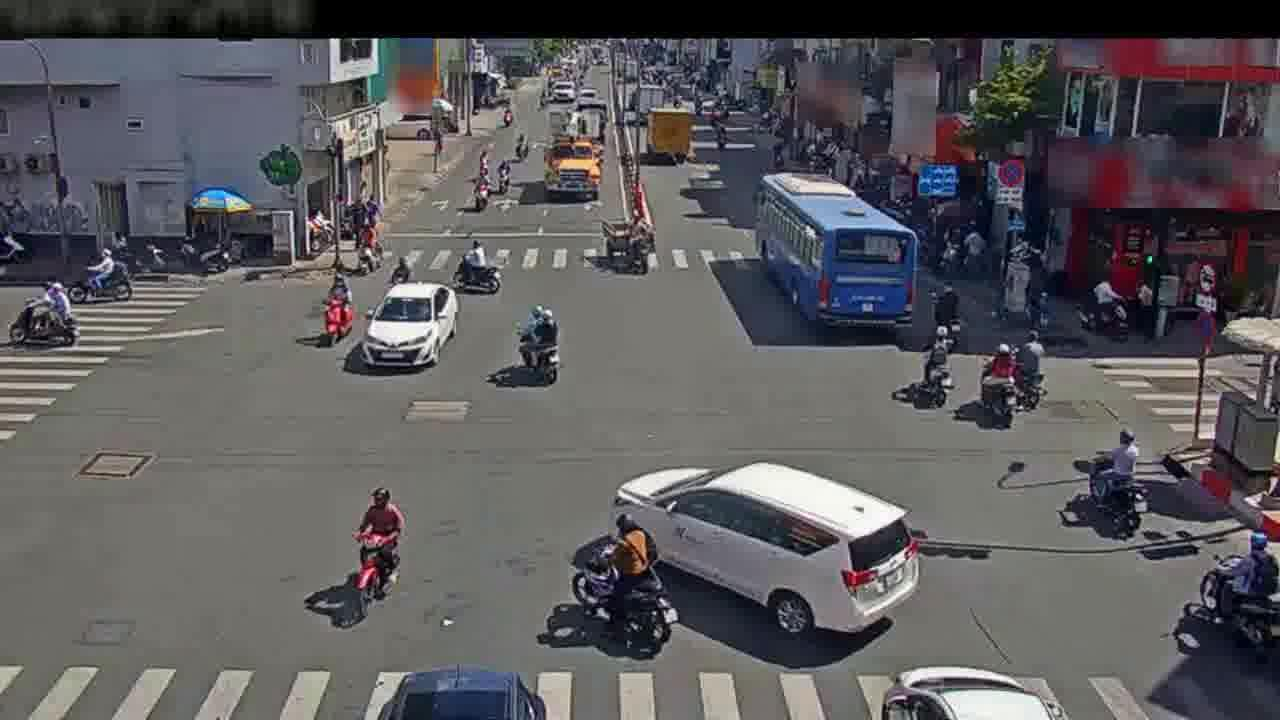14: (757, 183, 911, 329)
8: (546, 119, 600, 206), (634, 94, 692, 174)
container: (616, 455, 914, 643), (892, 660, 1038, 720), (402, 658, 526, 720), (370, 279, 454, 368)
motorbike: (571, 518, 674, 649), (1200, 525, 1268, 666), (348, 484, 400, 621), (1083, 434, 1148, 535), (10, 279, 79, 351), (59, 242, 129, 304), (980, 341, 1026, 429), (514, 301, 559, 387), (1003, 333, 1045, 418), (915, 329, 954, 415), (452, 236, 499, 300), (320, 274, 352, 355), (933, 287, 967, 358), (349, 213, 384, 279), (471, 167, 495, 220), (495, 150, 515, 201), (518, 123, 531, 167), (390, 256, 410, 284)
